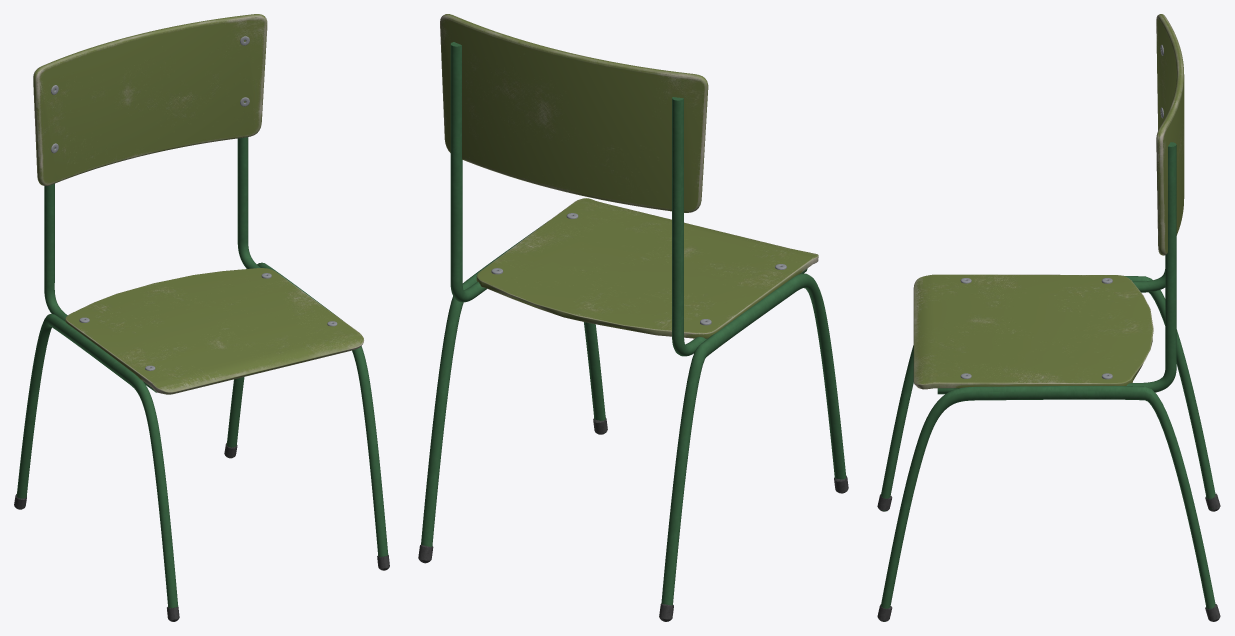
3 views of the same model, side by side, from view 1: azimuth 30°, elevation 25°; view 2: azimuth 150°, elevation 25°; view 3: azimuth 270°, elevation 25° (orthographic). The views are drawn at different scales.
Parts seen in each view (by area): view 1: Box001, Box002, Loft003, Loft004, Loft006, Loft005; view 2: Box001, Box002, Loft003, Loft004, Loft006, Loft005; view 3: Box002, Loft004, Box001, Loft003, Loft006.
Part boxes in pixels (x1=…): Box001: x1=33, y1=14, x2=267, y2=185; Box002: x1=65, y1=268, x2=363, y2=394; Loft003: x1=16, y1=314, x2=178, y2=607; Loft004: x1=226, y1=262, x2=388, y2=556; Loft006: x1=237, y1=137, x2=260, y2=268; Loft005: x1=44, y1=183, x2=156, y2=392; Box001: x1=440, y1=14, x2=708, y2=212; Box002: x1=476, y1=198, x2=818, y2=338; Loft003: x1=661, y1=273, x2=846, y2=605; Loft004: x1=421, y1=221, x2=605, y2=546; Loft006: x1=450, y1=42, x2=486, y2=302; Loft005: x1=672, y1=97, x2=807, y2=356; Box002: x1=913, y1=274, x2=1153, y2=389; Loft004: x1=881, y1=386, x2=1215, y2=621; Box001: x1=1156, y1=14, x2=1184, y2=255; Loft003: x1=881, y1=275, x2=1215, y2=511; Loft006: x1=937, y1=142, x2=1176, y2=394.
Size of the model in its own units: 1.06 by 2 by 1.26.
Materials: 8 (8 with a texture image).
